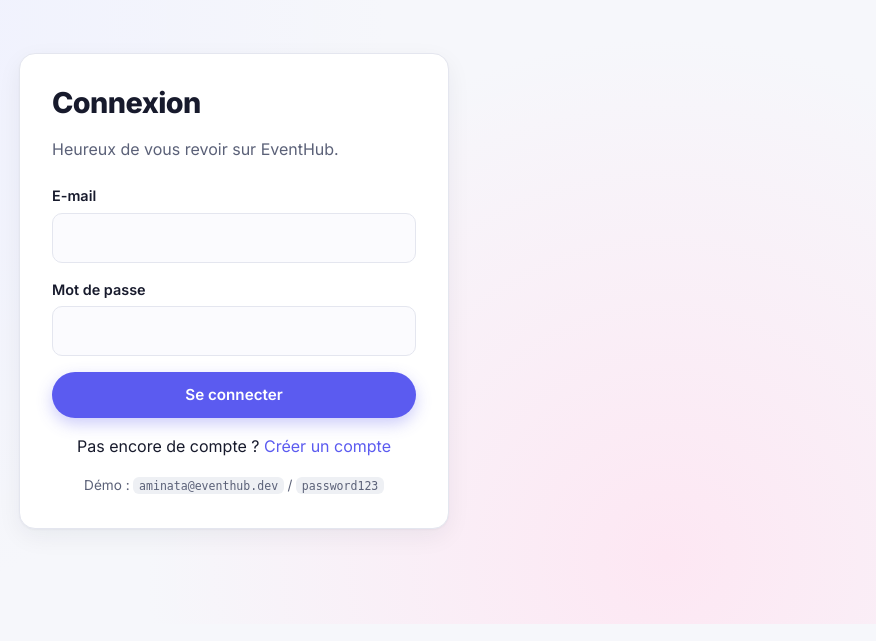
Test case: LoginPage › affiche l'erreur renvoyée par l'API
Type "x@y.dev" into the field labelled "E-mail".
click(234, 238); type("x@y.dev")  # box left=52, top=213, right=416, bottom=263
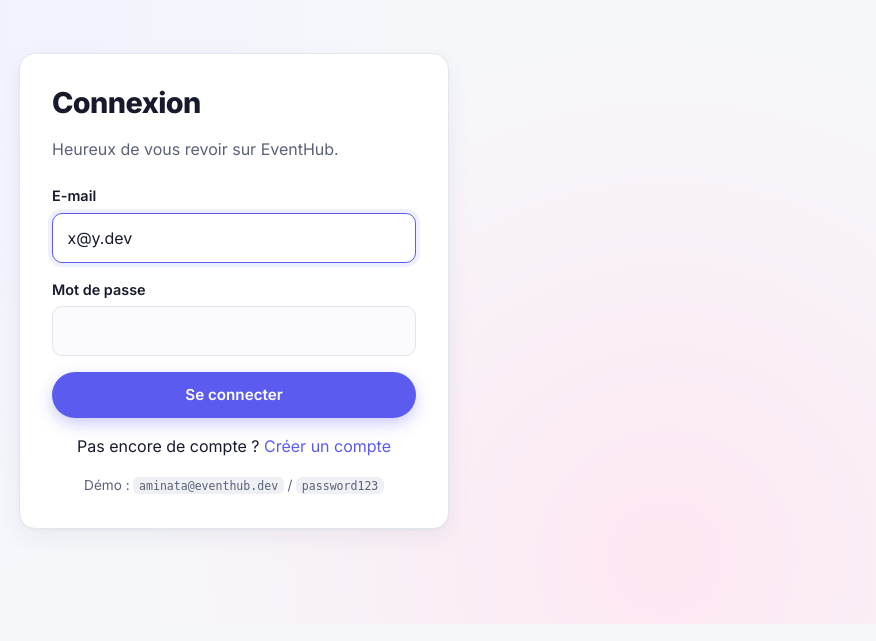
Type "mauvais" into the password field labelled "Mot de passe".
click(234, 331); type("mauvais")  # box left=52, top=306, right=416, bottom=356
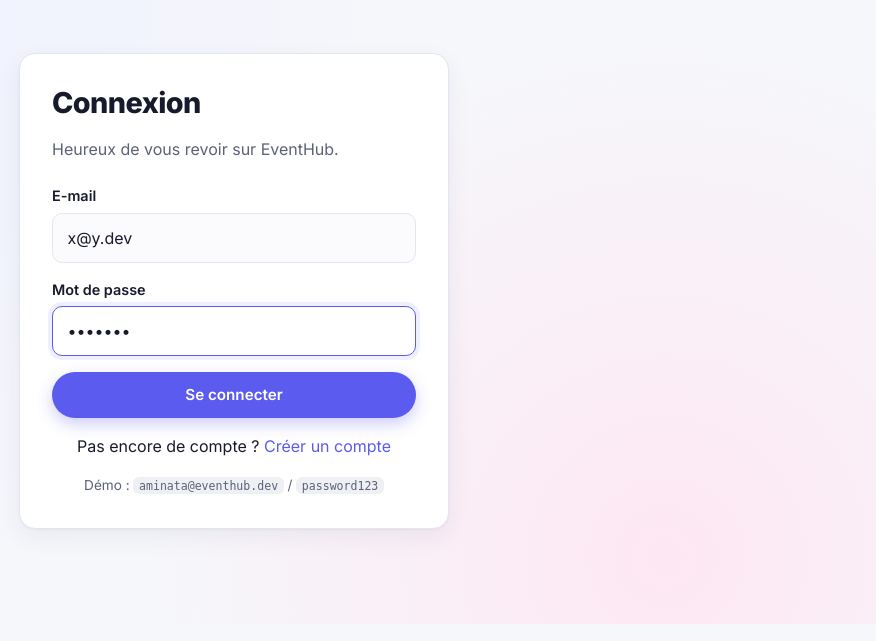
Click the button "Se connecter".
click(234, 395)  # box left=52, top=372, right=416, bottom=418
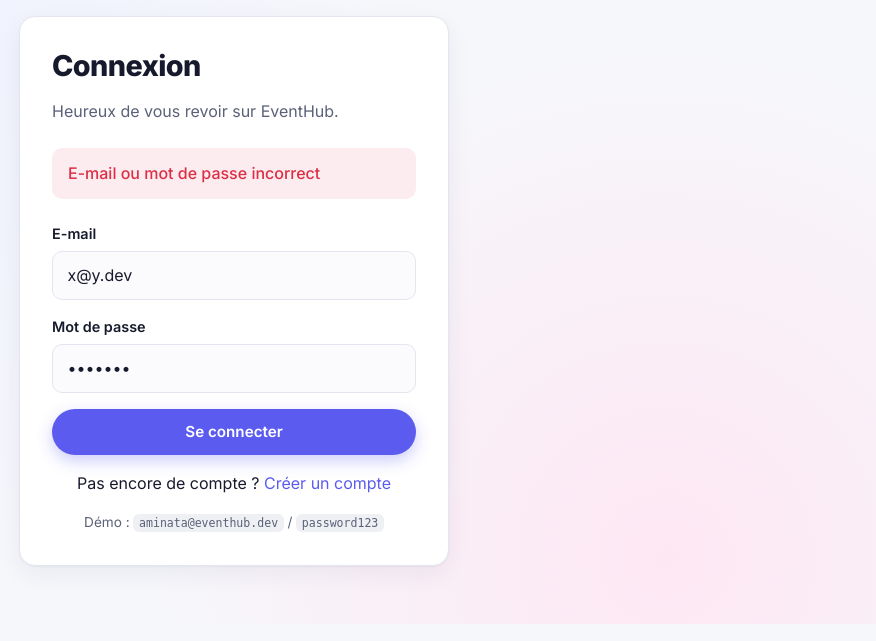
expect the message reads "E-mail ou mot de passe incorrect": met, box left=68, top=163, right=320, bottom=183
